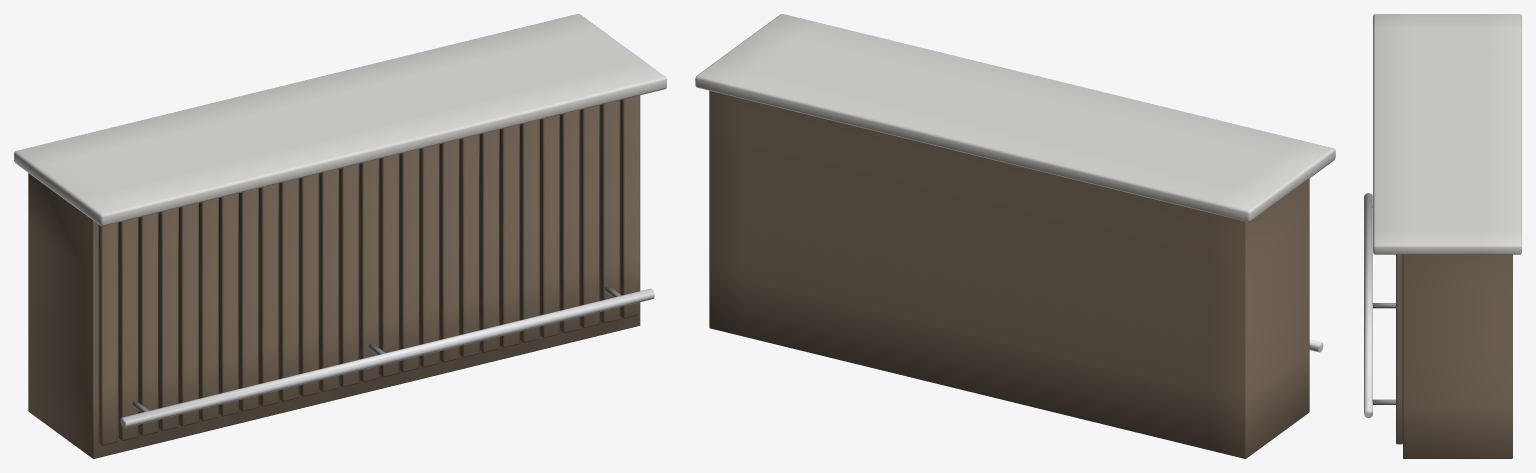
The model's file is counter.glb.
3 views of the same model, side by side, from view 1: azimuth 30°, elevation 25°; view 2: azimuth 150°, elevation 25°; view 3: azimuth 270°, elevation 25° (orthographic). The views are drawn at different scales.
Visible parts, largest first — view 1: p_counter; view 2: p_counter; view 3: p_counter.
Part boxes in pixels (bbox=[...]): p_counter: bbox=[14, 14, 666, 458]; p_counter: bbox=[695, 14, 1335, 458]; p_counter: bbox=[1364, 14, 1521, 458].
Bounding box in the file's own units: 2.4 × 1.05 × 0.69.
